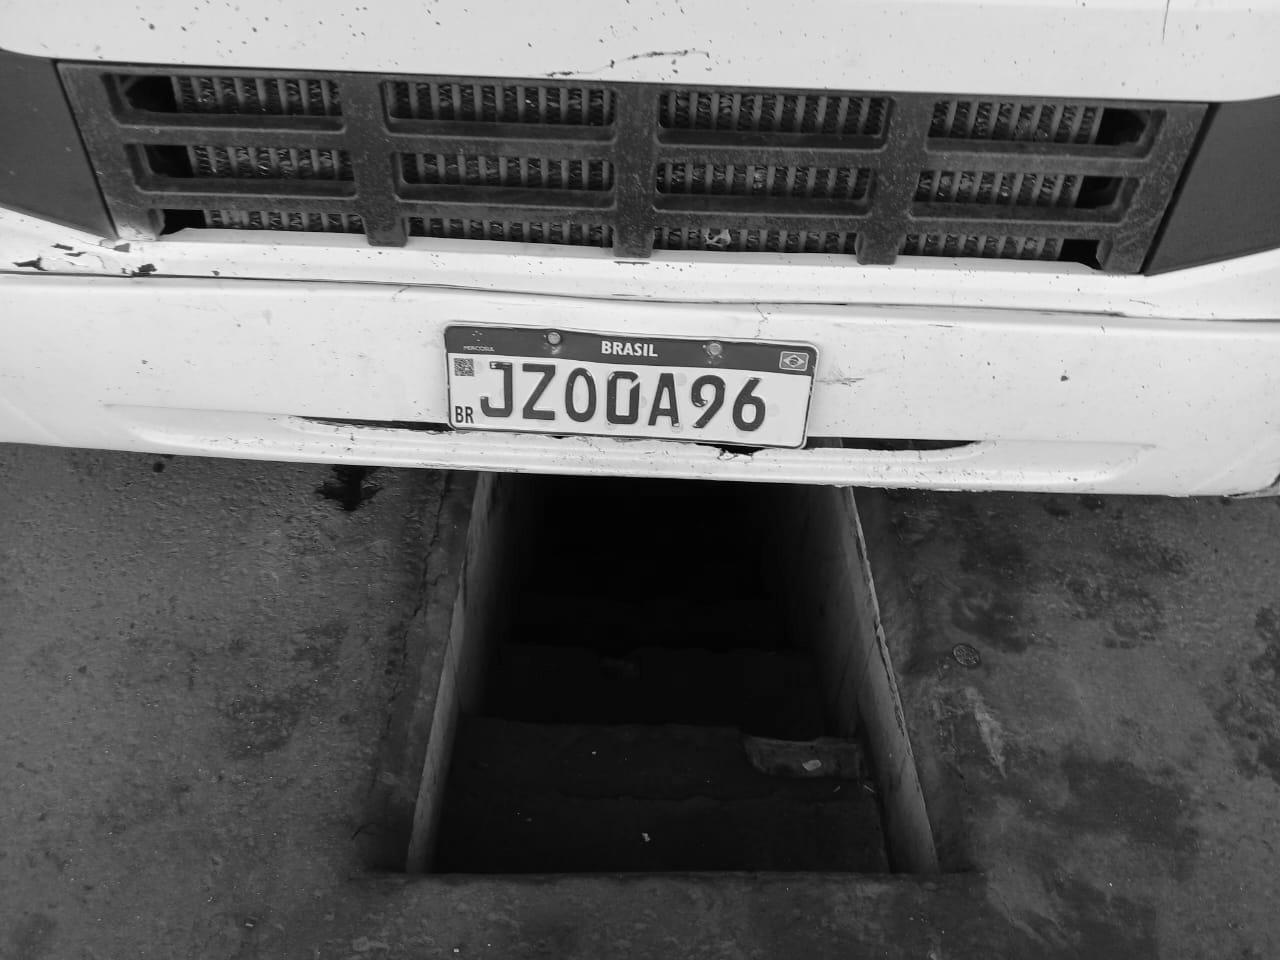placa_mercosul: (447, 326, 817, 447)
